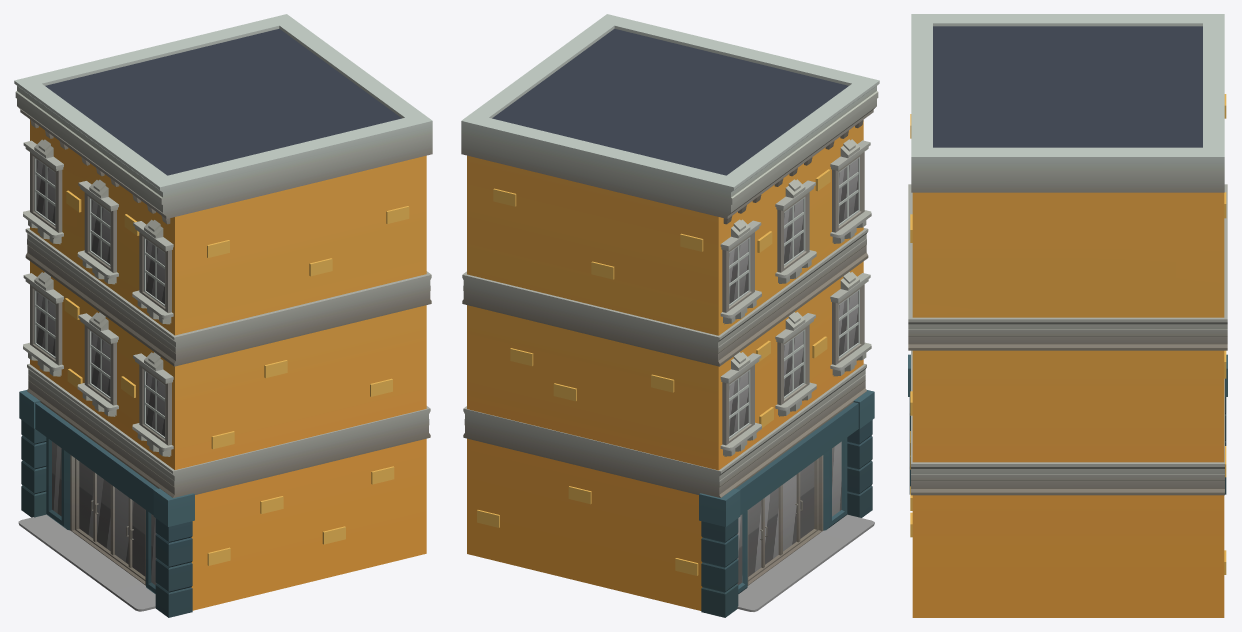
File: Building_21_3_B.fbx
3 views of the same model, side by side, from view 1: azimuth 30°, elevation 25°; view 2: azimuth 150°, elevation 25°; view 3: azimuth 270°, elevation 25° (orthographic). The views are drawn at different scales.
Visible parts, largest first — view 1: Building_21_3_B; view 2: Building_21_3_B; view 3: Building_21_3_B.
Part boxes in pixels (box(x1,y1,x2,y2)): Building_21_3_B: box(14, 14, 432, 617); Building_21_3_B: box(461, 14, 879, 617); Building_21_3_B: box(908, 14, 1227, 617).
Size of the model in its own units: 779 by 1141 by 713.
